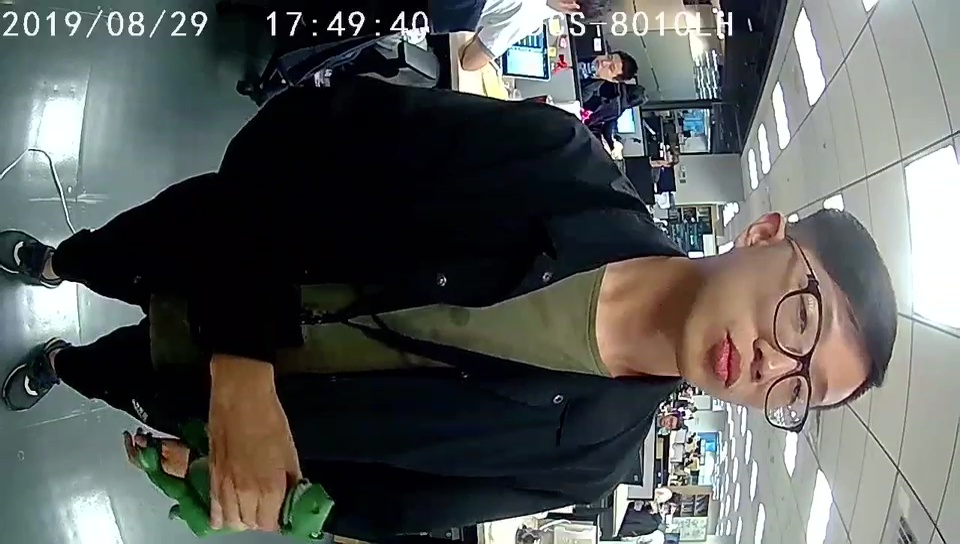rex: (127, 431, 334, 542)
